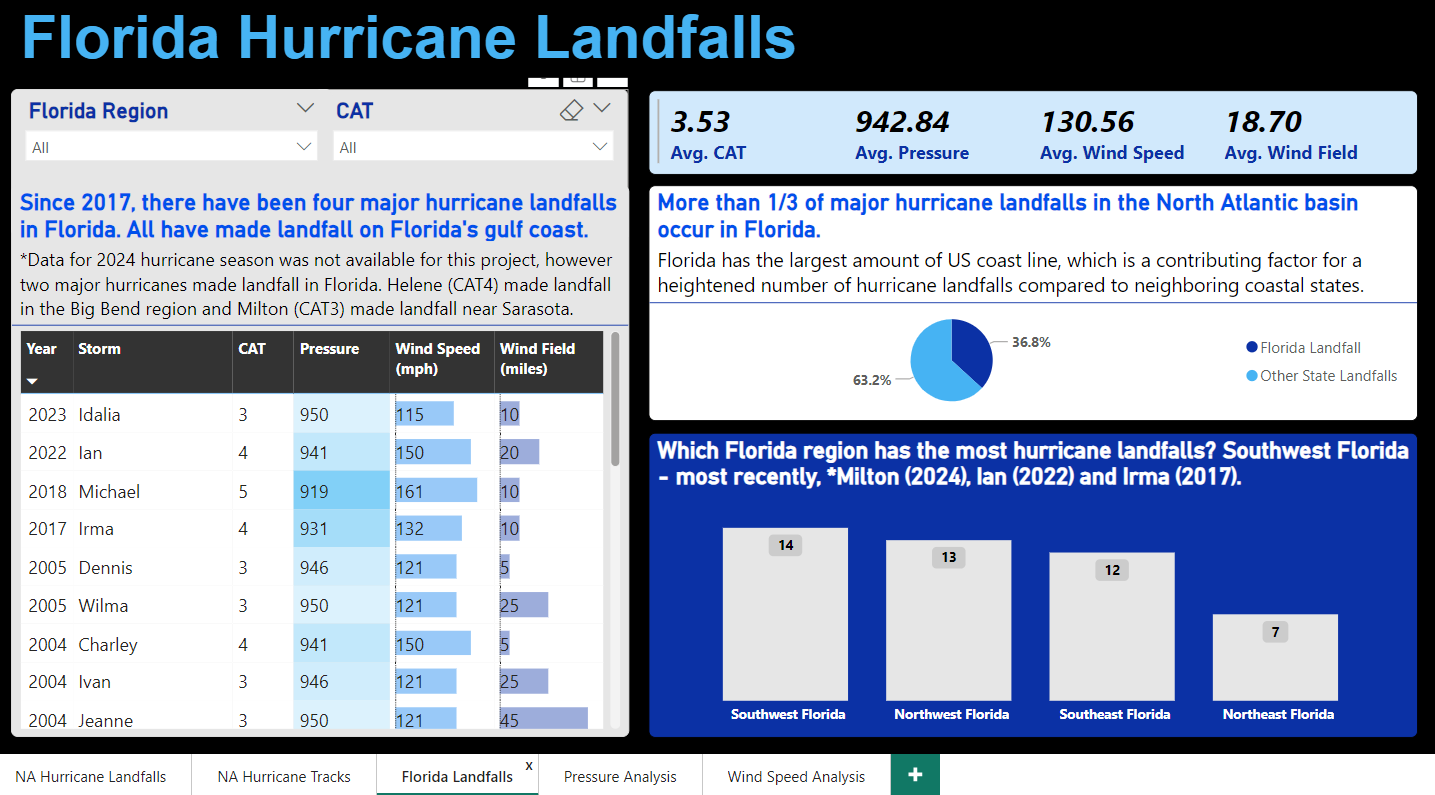

What the dashboard file says about the page in this screenshot:
{"tool":"powerbi","page":{"name":"Florida Landfalls","canvas":[1280,720],"ordinal":1},"visuals":[{"type":"slicer","fields":{"Values":["hurricane data.SSHWS"]},"box":[288.6,128.4,274.1,131.3],"z":0},{"type":"slicer","fields":{"Values":["_statesaffected.StateName"]},"box":[13,128.4,285.7,131.3],"z":1000},{"type":"textbox","box":[16.3,47.6,1251,70.9],"z":2000},{"type":"tableEx","title":"Since 2017, there have been four major hurricane landfalls in Florida. All have made landfall on Florida''s gulf coast.","fields":{"Values":["hurricane data.Date.Variation.Date Hierarchy.Year","_storms.StormName","_measures.CAT","_measures.Pressure","_measures.Wind Speed (mph)","_measures.Wind Field (miles)"]},"box":[13.1,214.7,550,490.8],"z":3000},{"type":"pieChart","title":"More than 1/3 of major hurricane landfalls in the North Atlantic basin occur in Florida.","fields":{"Y":["_measures.Landfall Florida Count","_measures.Cnt_Landfall Not Florida"]},"box":[580,215,683.9,209.2],"z":4000},{"type":"columnChart","title":"Which Florida region has the most hurricane landfalls? Southwest Florida - most recently, *Milton (2024), Ian (2022) and Irma (2017).","fields":{"Category":["_statesaffected.StateName"],"Y":["_measures.Cnt_Landfall Florida"]},"box":[580,434.3,683.9,271.2],"z":5000},{"type":"multiRowCard","fields":{"Values":["_measures.Avg_CAT","_measures.Avg_Pressure","_measures.Avg_WindSpeed","_measures.Avg_WindField"]},"box":[580.6,129.3,683.6,70.1],"z":6000}]}

Visuals, with their boxes in screenshot pixels (x1, y1, x2, y2):
slicer - hurricane data.SSHWS: (315, 100, 625, 249)
slicer - _statesaffected.StateName: (3, 100, 326, 249)
textbox: (7, 9, 1421, 89)
"Since 2017, there have been four major hurricane landfalls in Florida. All have made landfall on Florida''s gulf coast." tableEx: (4, 198, 625, 753)
"More than 1/3 of major hurricane landfalls in the North Atlantic basin occur in Florida." pieChart: (644, 198, 1417, 435)
"Which Florida region has the most hurricane landfalls? Southwest Florida - most recently, *Milton (2024), Ian (2022) and Irma (2017)." columnChart: (644, 446, 1417, 753)
multiRowCard - _measures.Avg_CAT x _measures.Avg_Pressure: (645, 101, 1418, 181)
